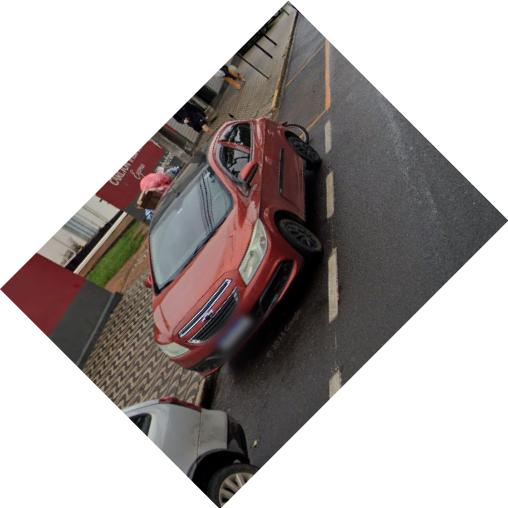car: (138, 116, 324, 377)
